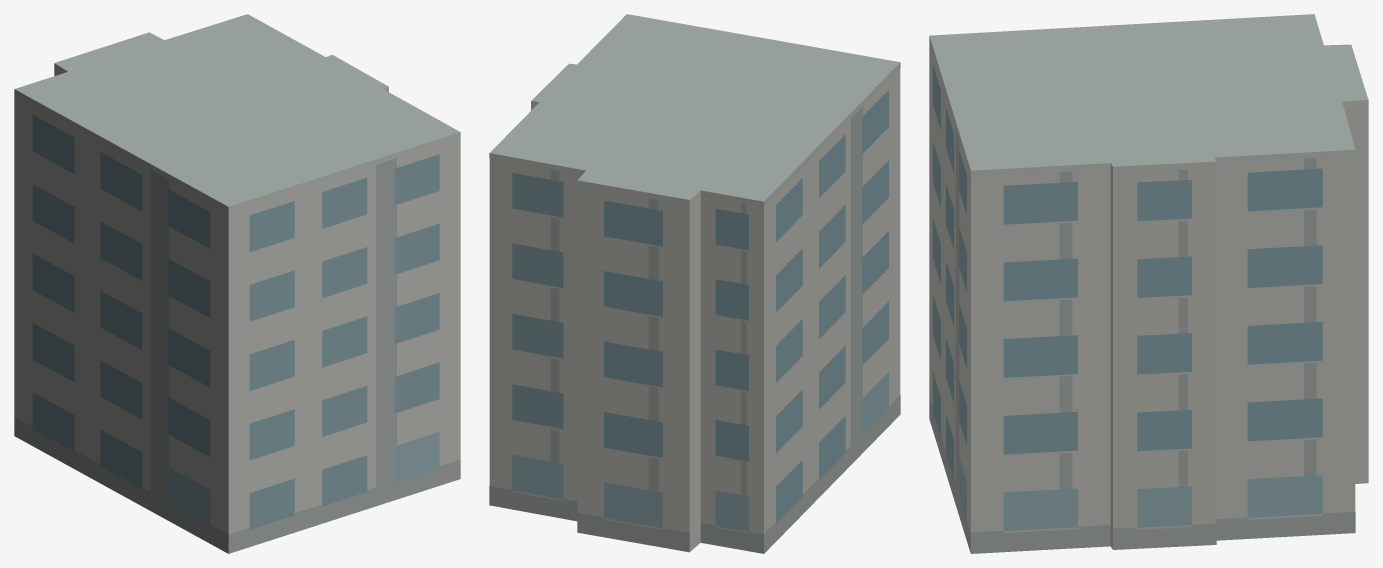
File: survey-upis-32820570.glb
The picture shows the model from 3 angles, left to right: view 1: azimuth 30°, elevation 25°; view 2: azimuth 150°, elevation 25°; view 3: azimuth 270°, elevation 25°; orthographic projection. The views are drawn at different scales.
Parts seen in each view (by area): view 1: survey-upis-32820570.tmp; view 2: survey-upis-32820570.tmp; view 3: survey-upis-32820570.tmp.
Part boxes in pixels (<box>): survey-upis-32820570.tmp: <box>14,14,460,553</box>; survey-upis-32820570.tmp: <box>489,14,900,553</box>; survey-upis-32820570.tmp: <box>929,14,1368,553</box>.
Bounding box in the file's own units: 13.16 × 15 × 15.59.
